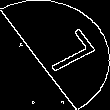L_SW: (19, 28, 91, 82)
